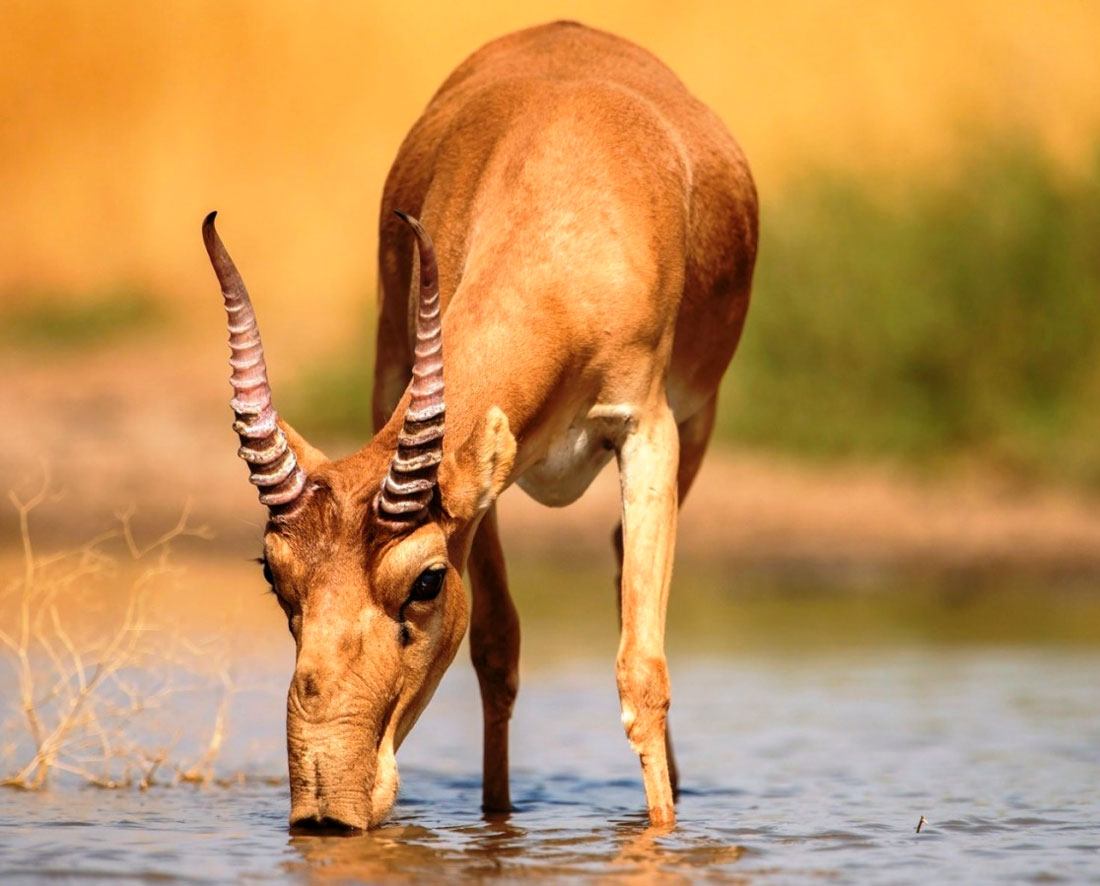saiga: (199, 17, 766, 845)
